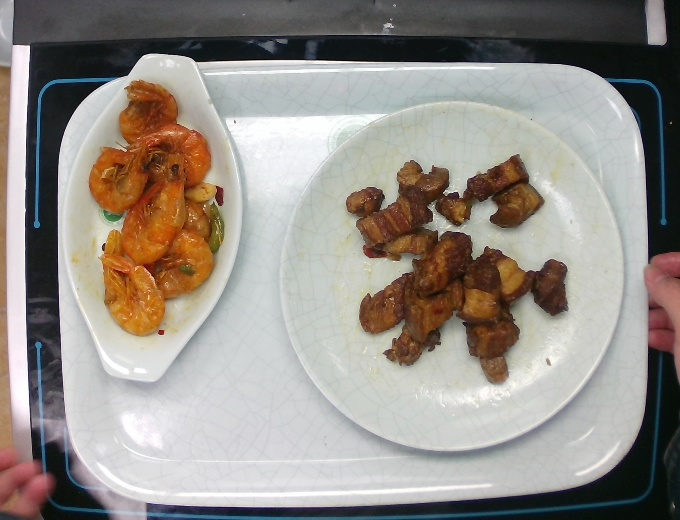JYsf-Da_Yuan_Pan: (261, 91, 630, 458)
JYsf-Yu_Pan: (57, 43, 248, 391)
